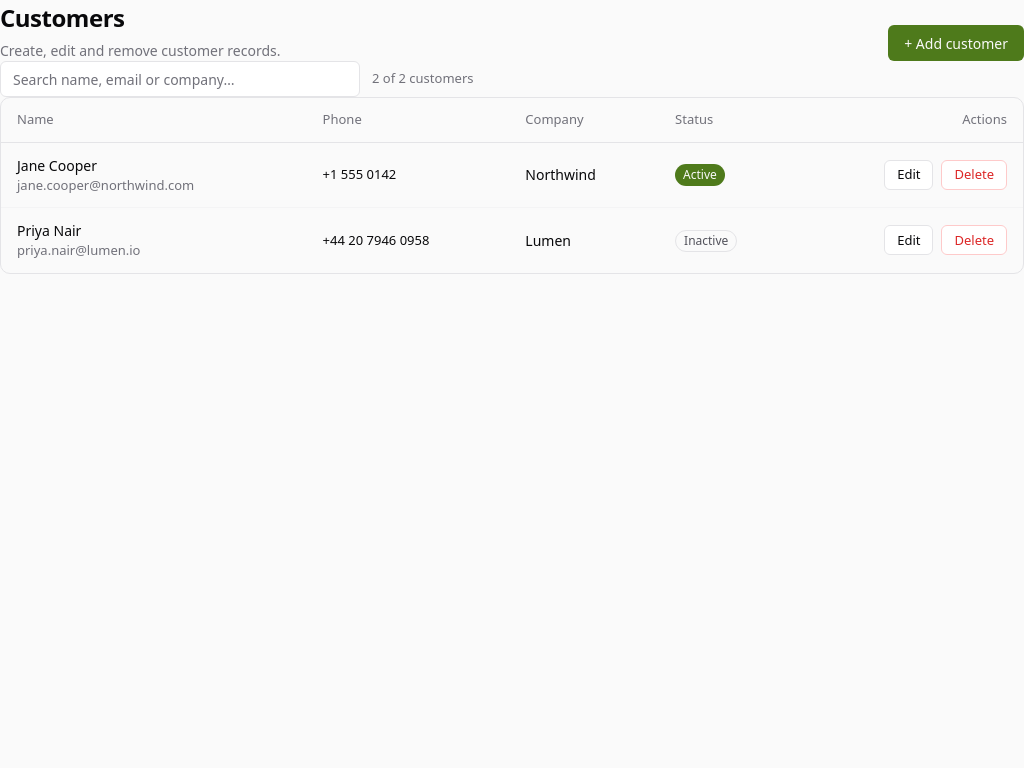
CustomersScreen — dialogs › opens the delete confirmation with the customer's name interpolated
This screenshot has width=1024, height=768.
Click the button "Delete" in the row of "Jane Cooper": (974, 175) x1=942 y1=160 x2=1007 y2=190
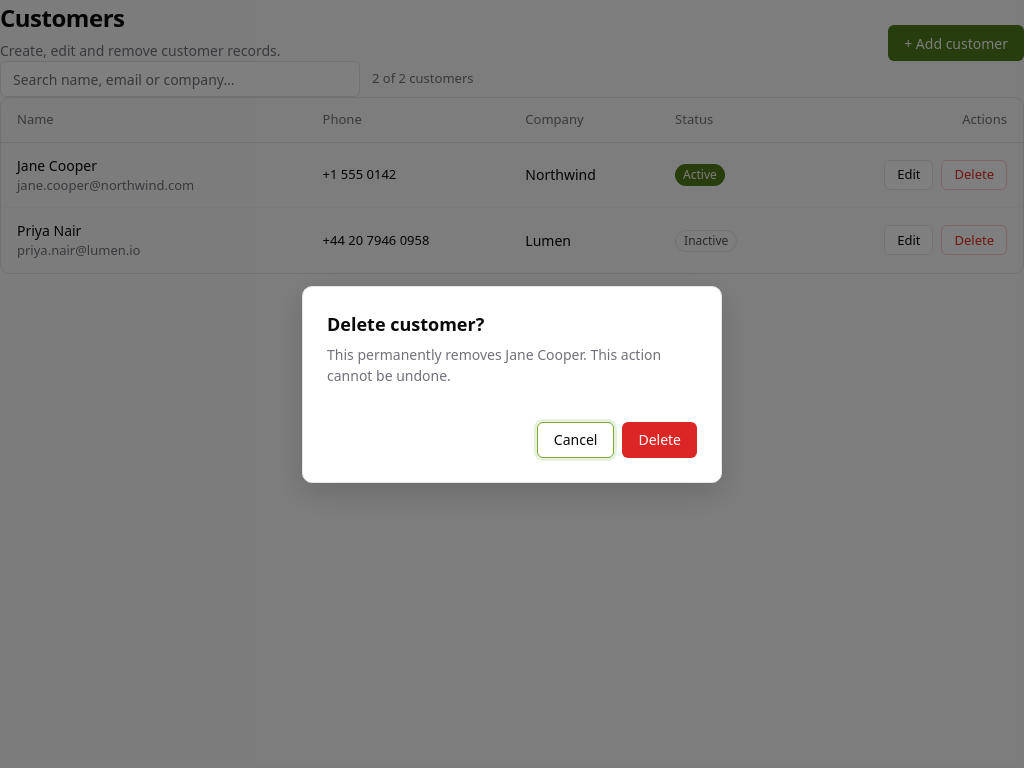
Check: the text "This permanently removes Jane Cooper. This action cannot be undone." is shown, box x1=327 y1=344 x2=697 y2=386
